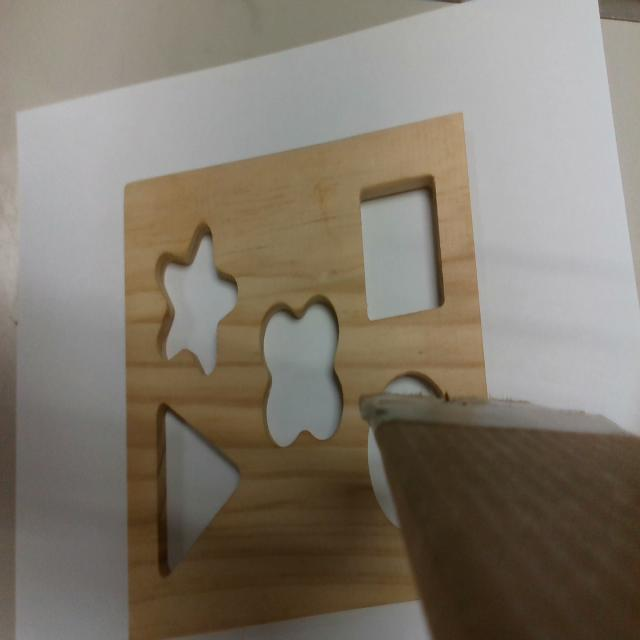circle: (368, 367, 447, 525)
flower: (260, 296, 344, 440)
square: (356, 173, 448, 327)
star: (153, 220, 243, 374)
triangle: (157, 403, 241, 575)
